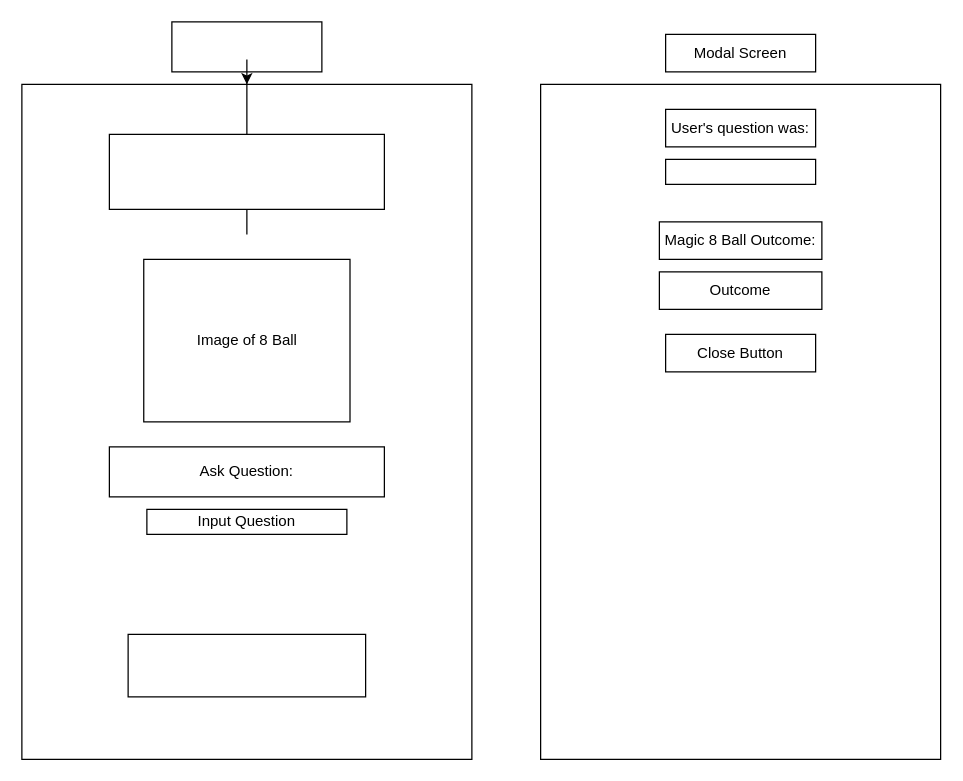
Image size: 963x781. Some labels were removed from this diagram. Here are the shapes that lost their labels. From the top down, the centre of each, then its label:
point (246, 46): Main Screen
point (246, 171): Magic 8 Ball Title
point (740, 171): Question
point (246, 665): Submit Button
